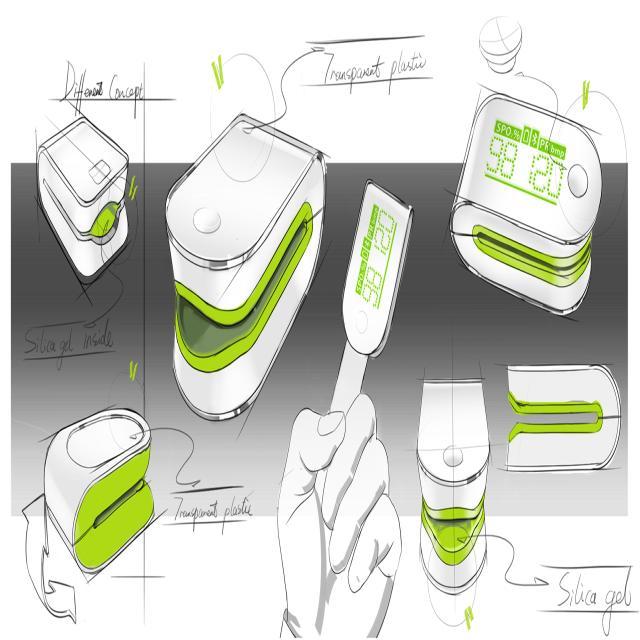oximeter: (163, 108, 327, 412)
